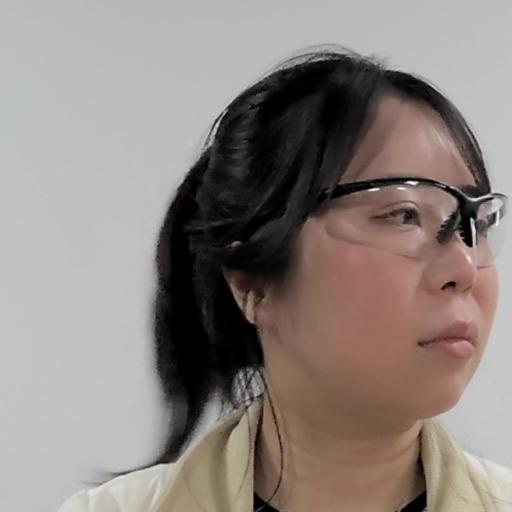glasses: (185, 53, 512, 434)
